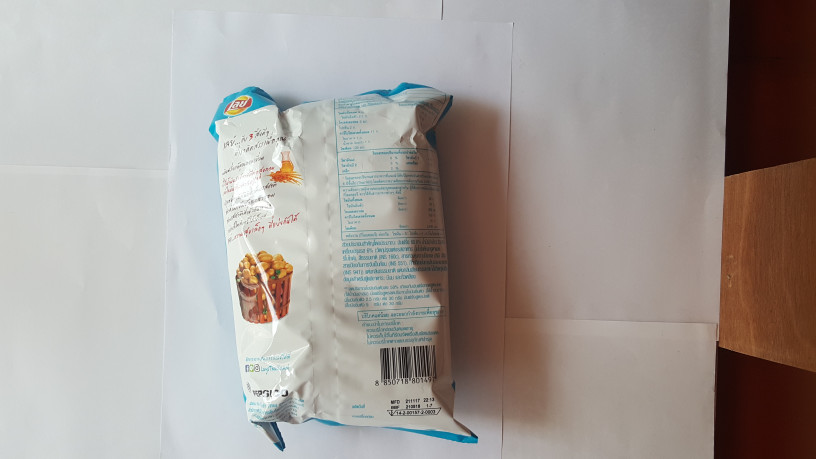lays-onion: (207, 66, 481, 458)
